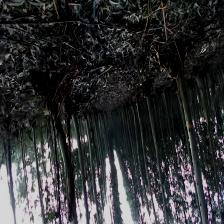trunk: (175, 75, 208, 215), (49, 105, 76, 202), (146, 94, 166, 196), (75, 127, 88, 210), (32, 128, 43, 202), (6, 141, 16, 214)
